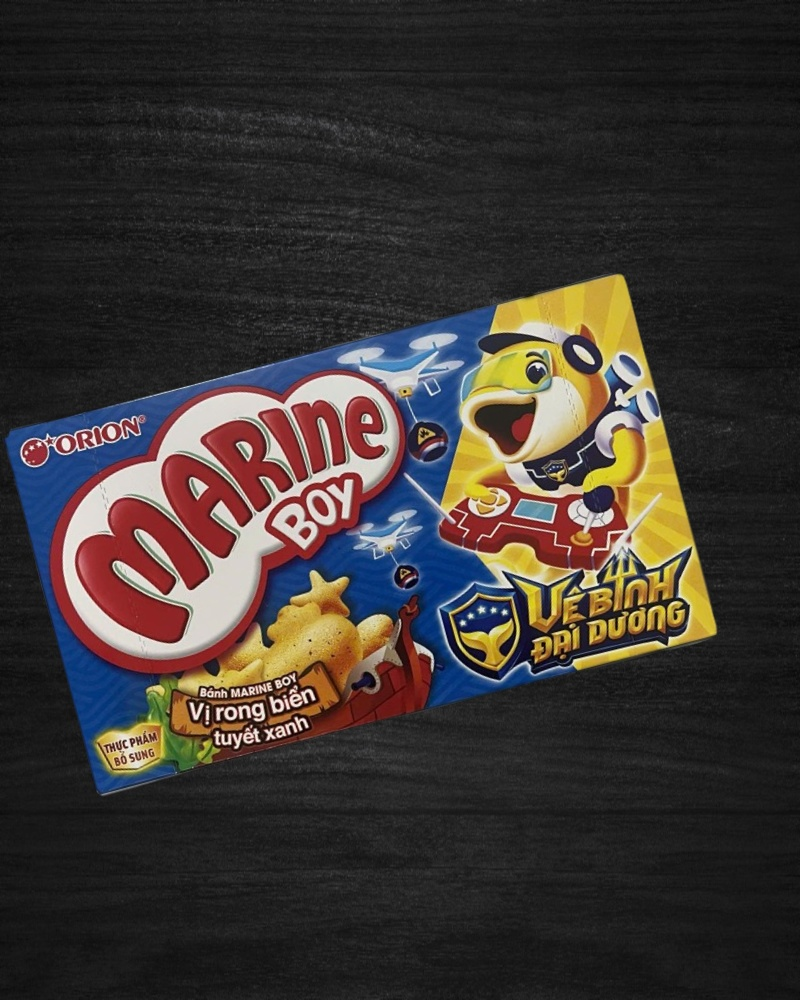Marine: (3, 266, 723, 802)
